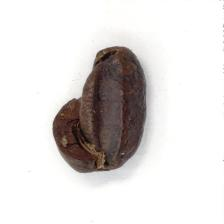NG: (53, 46, 124, 172)
